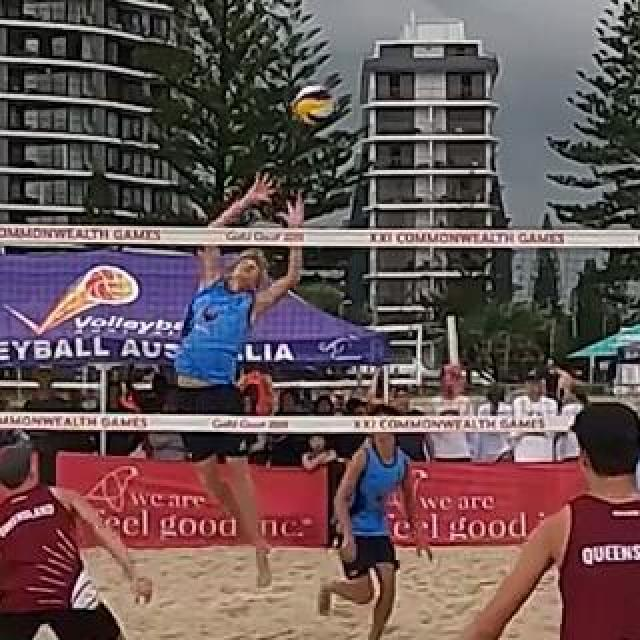volleyball: (293, 86, 333, 126)
